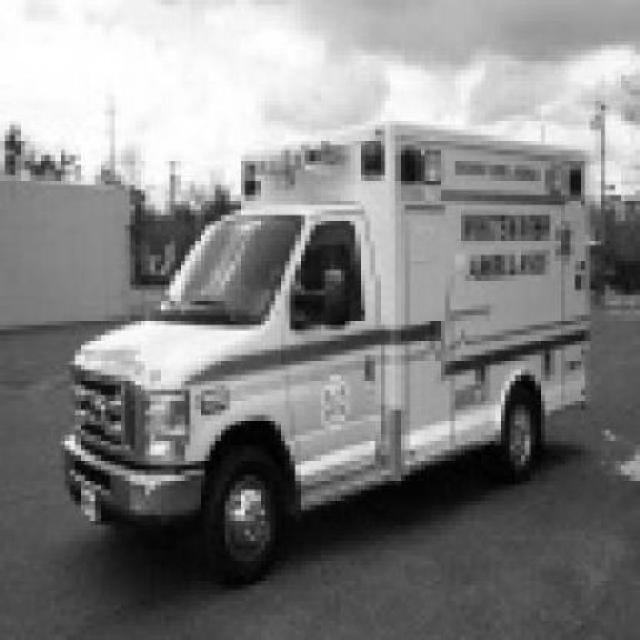Ambulance: (62, 121, 594, 590)
